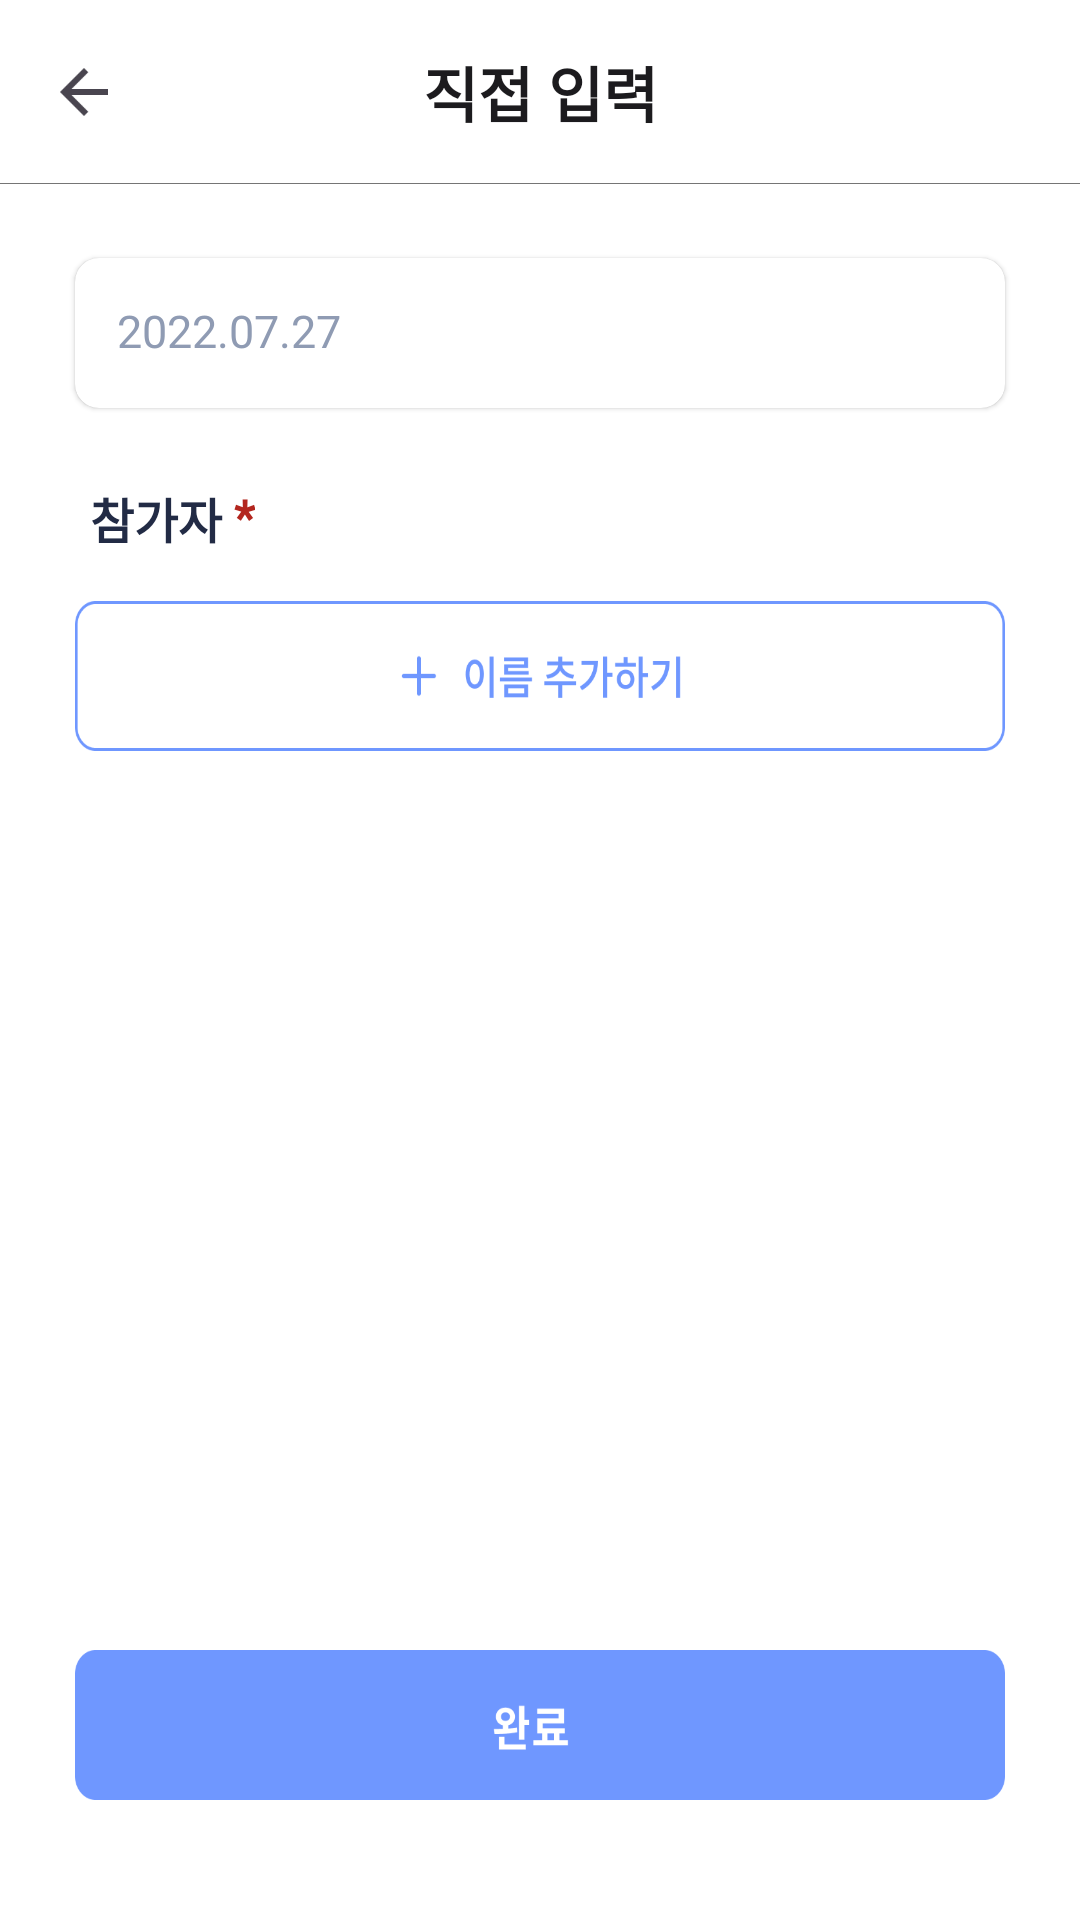

Where to tap for icons on this 1080w x 1920h app screen, as (x,y):
back arrow: (84,92)
